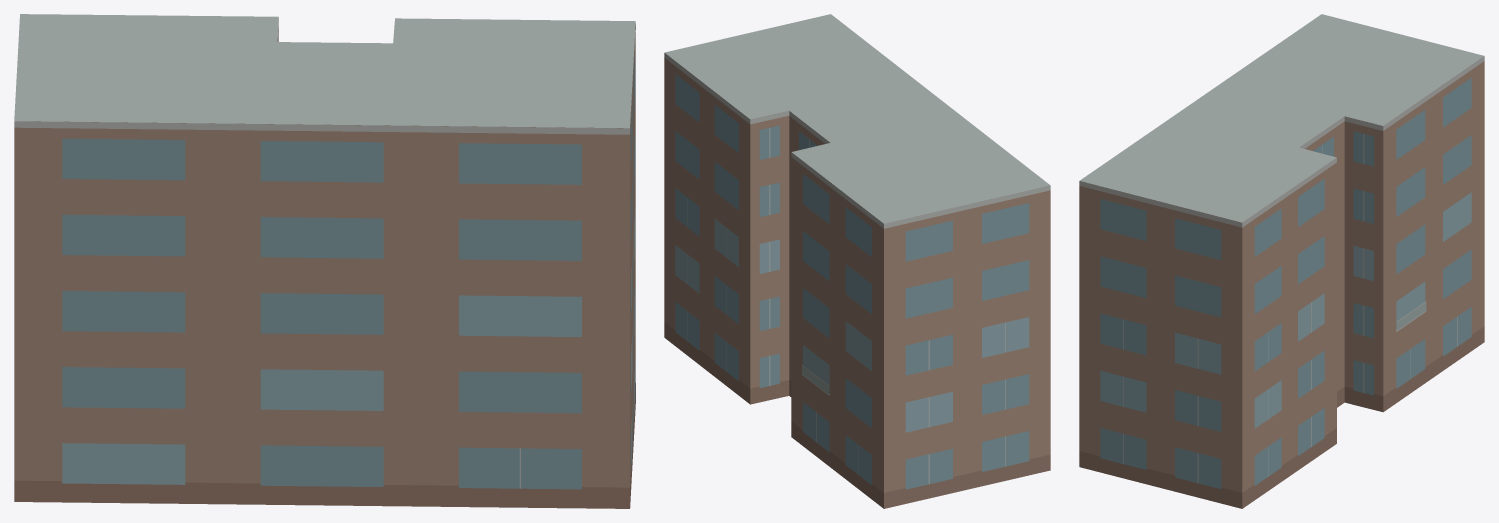
The model's file is survey-upis-32673371.glb.
3 renders of one model, left to right at view 1: azimuth 30°, elevation 25°; view 2: azimuth 150°, elevation 25°; view 3: azimuth 270°, elevation 25°, orthographic. The views are drawn at different scales.
Parts seen in each view (by area): view 1: survey-upis-32673371.tmp; view 2: survey-upis-32673371.tmp; view 3: survey-upis-32673371.tmp.
Part boxes in pixels (x1,y1,x2,y2): survey-upis-32673371.tmp: (14,14,635,508); survey-upis-32673371.tmp: (664,14,1050,508); survey-upis-32673371.tmp: (1079,14,1484,508).
Bounding box in the file's own units: 22.05 × 14.1 × 18.1.
